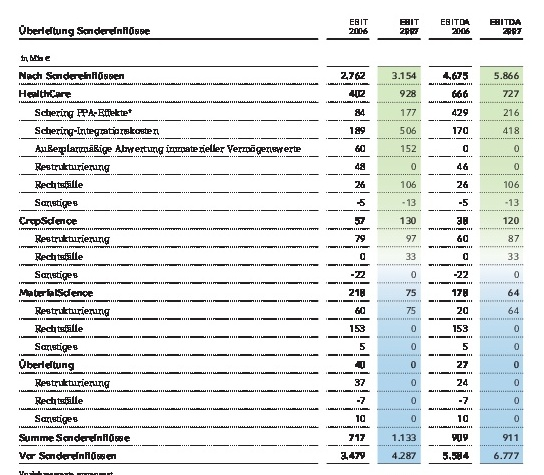table: (0, 0, 544, 475)
